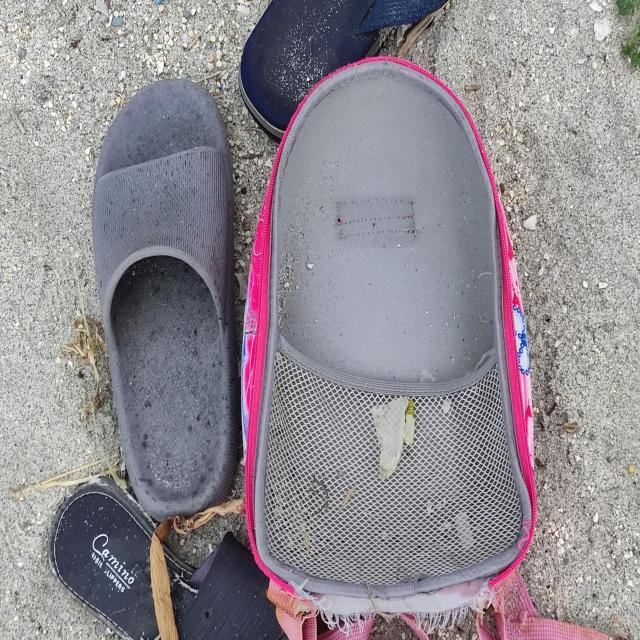rubber_waste: (93, 79, 242, 522)
textile_waste: (240, 52, 540, 620)
